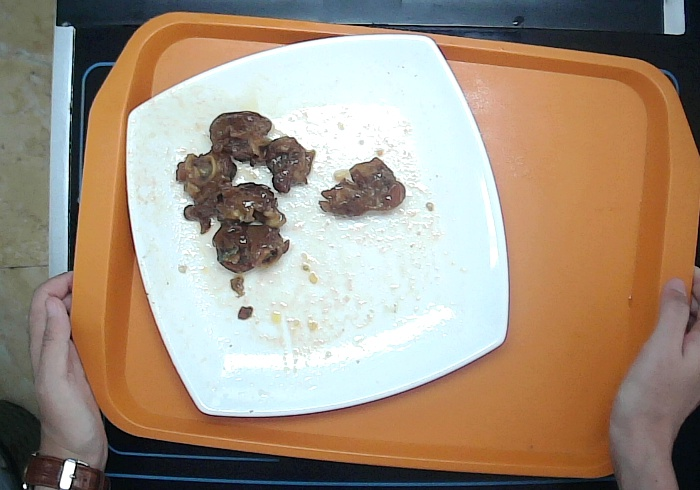ZNLD-Bai_Fang_Pan: (119, 22, 516, 420)
